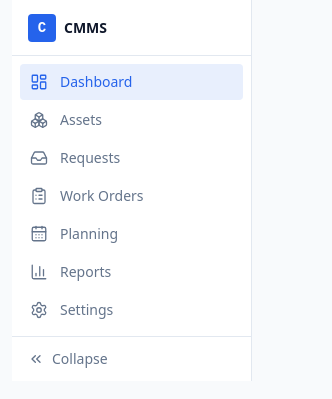
Scenario: Sidebar › collapses to icon-only on click, hiding labels, and expands back on a second click
This screenshot has width=332, height=399.
Expected: the text "Dashboard" is shown, [60,72,132,92]
Click the button with aria-label "Collapse sidebar" at (132, 358), box [12,336,251,381]
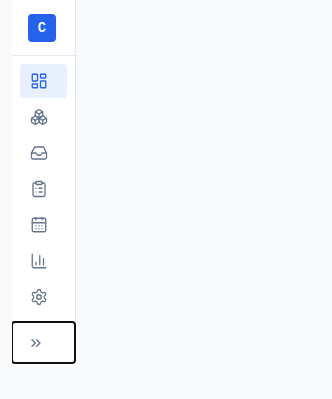
Now the text "Dashboard" is gone
Now the text "Assets" is gone
Click the button named "Expand sidebar" at (44, 342), box [12,322,75,363]
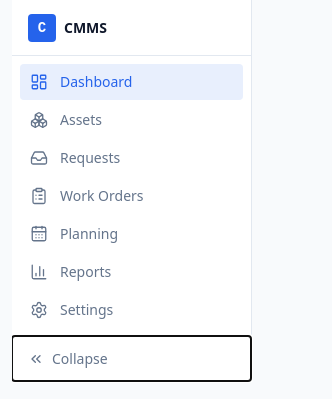
Now the text "Dashboard" is shown, box [60,72,132,92]
Now the button with aria-label "Collapse sidebar" is shown, box [12,336,251,381]
